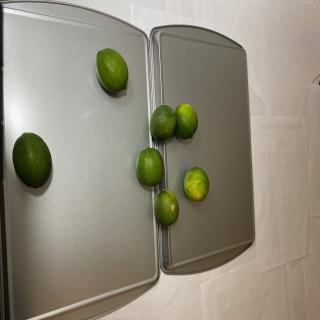Lemon: (12, 132, 52, 188), (95, 48, 128, 93), (136, 147, 164, 187), (183, 166, 210, 202), (150, 104, 177, 140), (154, 189, 179, 226), (175, 103, 198, 140)
